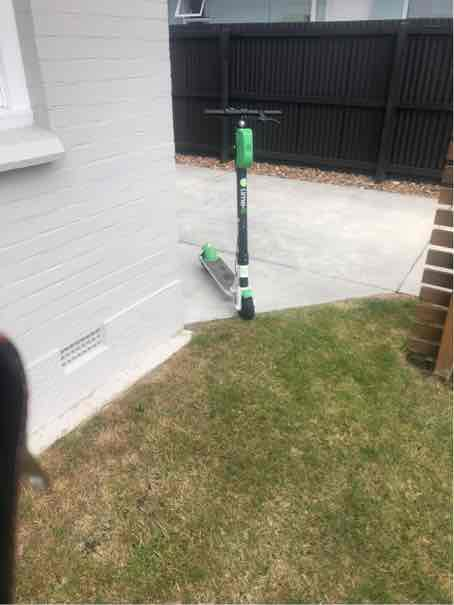scooter: (188, 89, 283, 323)
